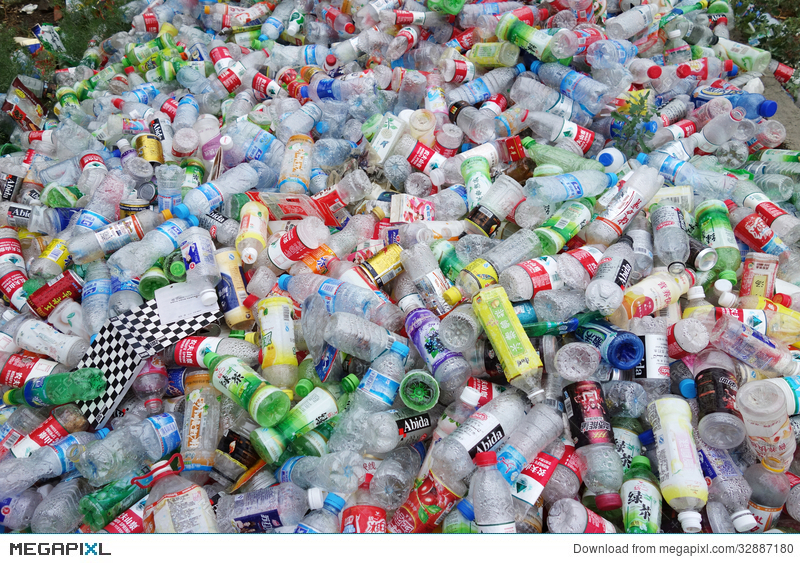plastic_bottle: (366, 64, 683, 284)
